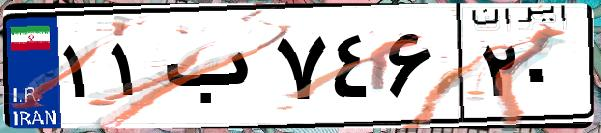0: (525, 38, 570, 115)
1: (57, 26, 110, 100), (110, 28, 158, 98)
2: (475, 38, 525, 113)
4: (330, 28, 385, 110)
6: (385, 28, 445, 110)
7: (270, 28, 330, 110)
ب: (158, 20, 270, 120)
